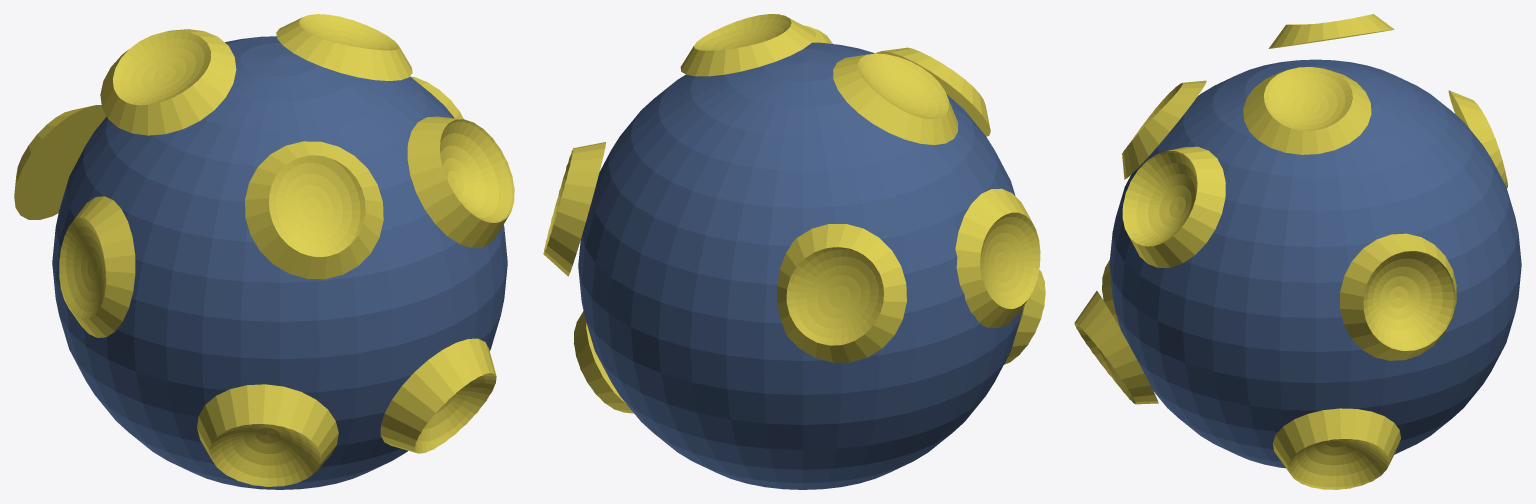
The model's file is AndreatheCraters.glb.
3 renders of one model, left to right at view 1: azimuth 30°, elevation 25°; view 2: azimuth 150°, elevation 25°; view 3: azimuth 270°, elevation 25°, orthographic. The views are drawn at different scales.
Visible parts, largest first — view 1: Mesh_Mesh_head_geo.001_lambert2SG.001; view 2: Mesh_Mesh_head_geo.001_lambert2SG.001; view 3: Mesh_Mesh_head_geo.001_lambert2SG.001.
Boxes of the visible parts, x1,y1,x2,y2 form: Mesh_Mesh_head_geo.001_lambert2SG.001: (14,14,514,489); Mesh_Mesh_head_geo.001_lambert2SG.001: (543,14,1045,489); Mesh_Mesh_head_geo.001_lambert2SG.001: (1074,14,1521,489).
Size of the model in its own units: 70.19 by 68.55 by 69.46.
